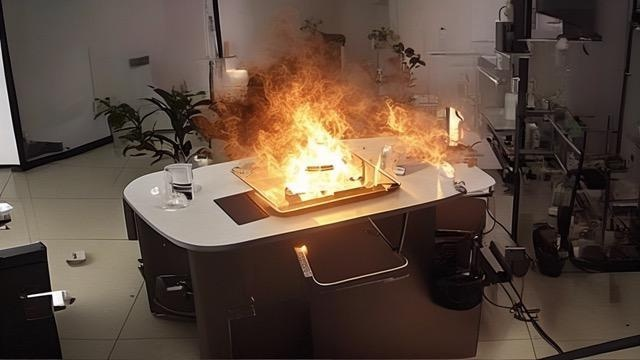fire: (218, 50, 491, 218)
